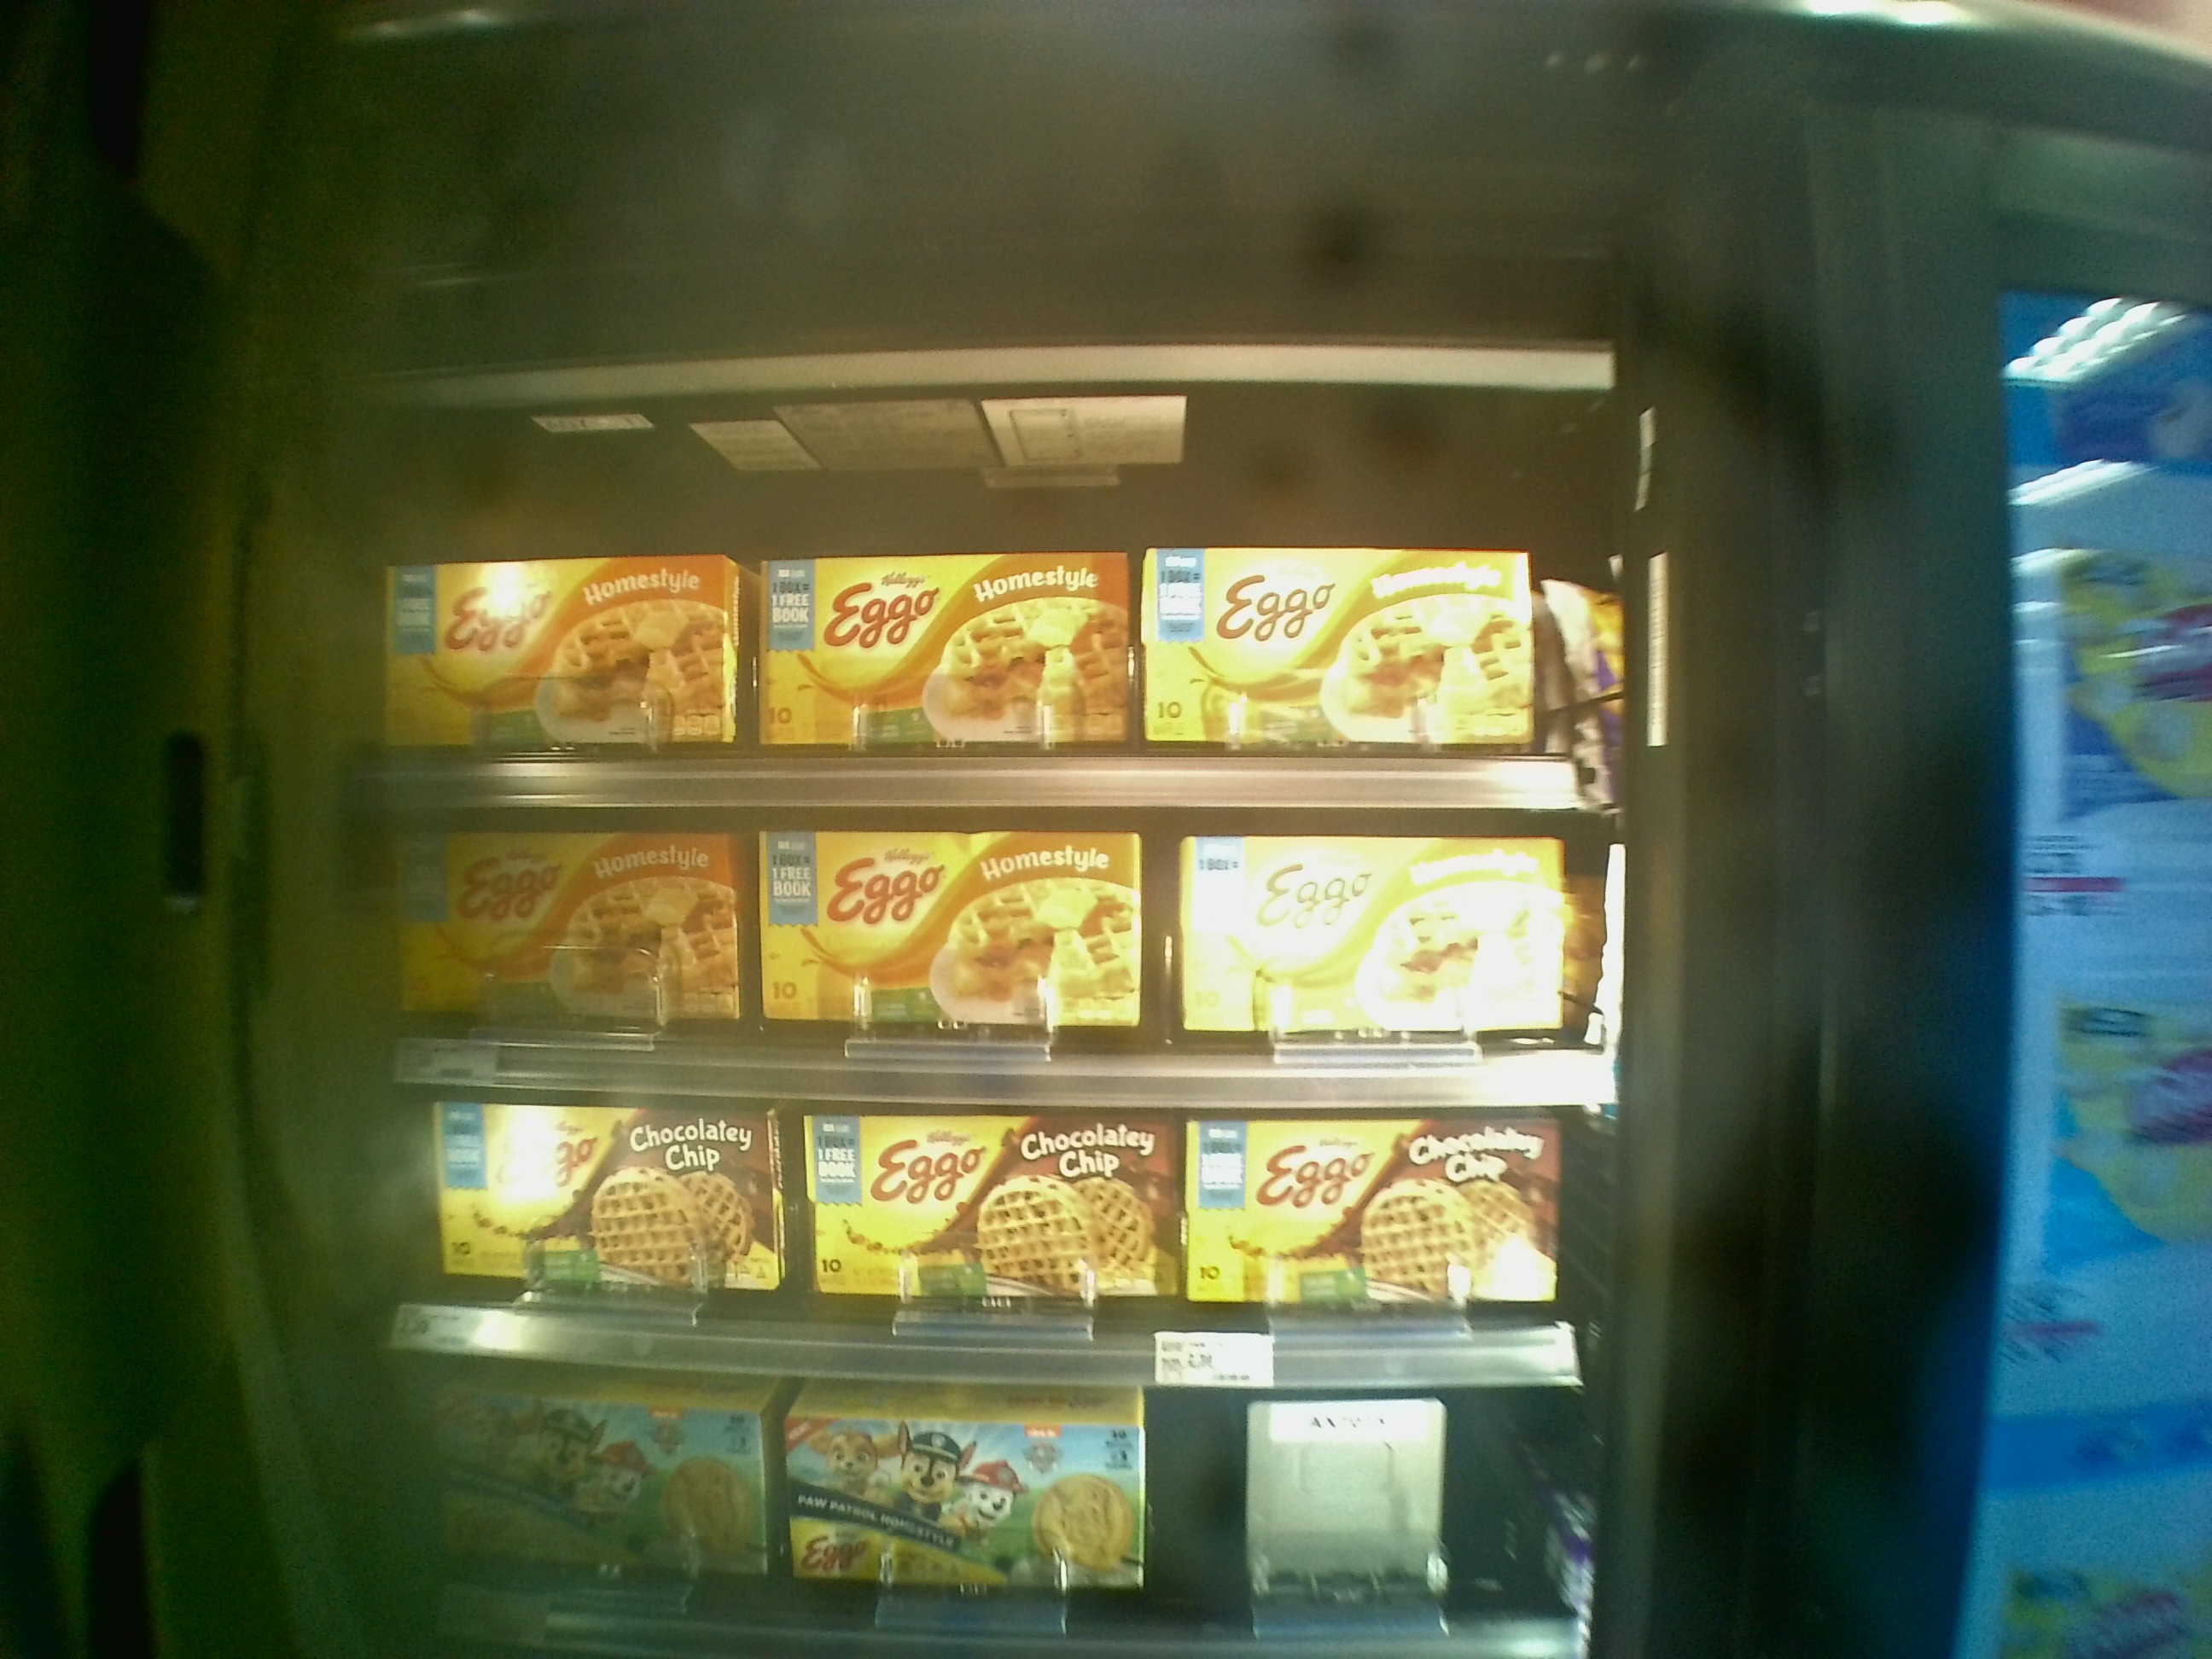frozen-food-shelf: (369, 350, 1623, 798), (361, 802, 1623, 1100), (376, 1086, 1588, 1394)
